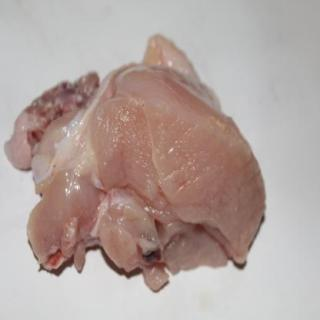Ayam: (7, 39, 265, 276)
